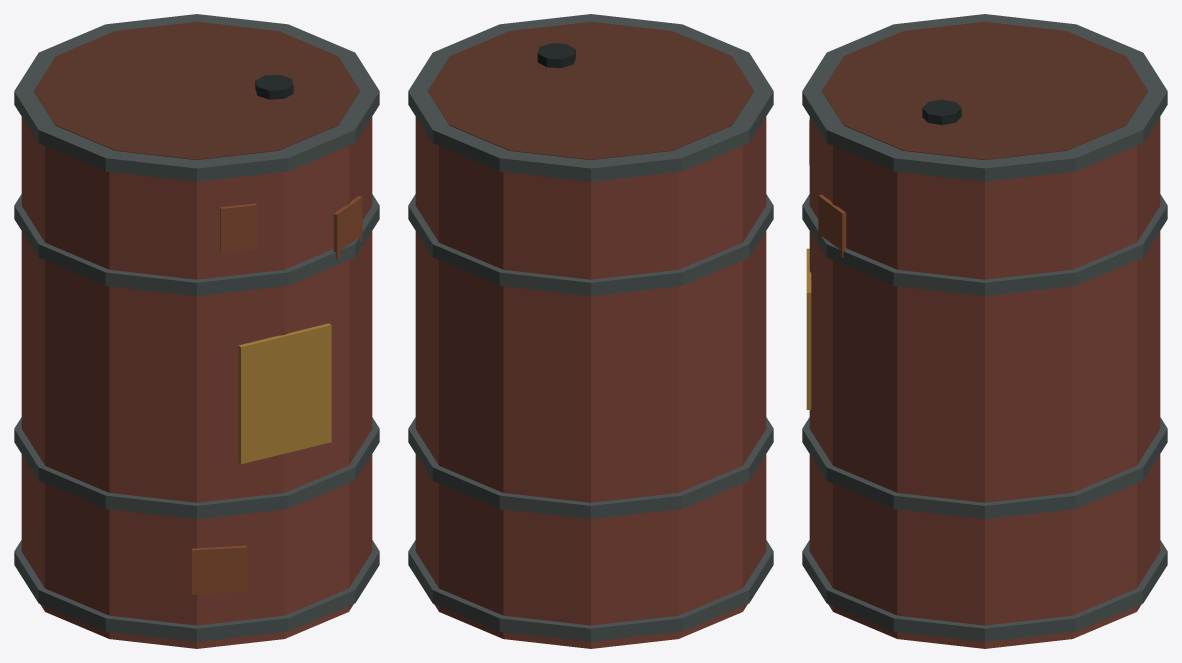
3 views of the same model, side by side, from view 1: azimuth 30°, elevation 25°; view 2: azimuth 150°, elevation 25°; view 3: azimuth 270°, elevation 25° (orthographic).
Visible parts, largest first — view 1: barril_oleo; view 2: barril_oleo; view 3: barril_oleo.
Part boxes in pixels (x1,y1,x2,y2): barril_oleo: [14, 14, 379, 648]; barril_oleo: [408, 14, 773, 648]; barril_oleo: [802, 14, 1167, 648].
Bounding box in the file's own units: 0.594 × 0.886 × 0.594.
Materials: 1 (1 with a texture image).
